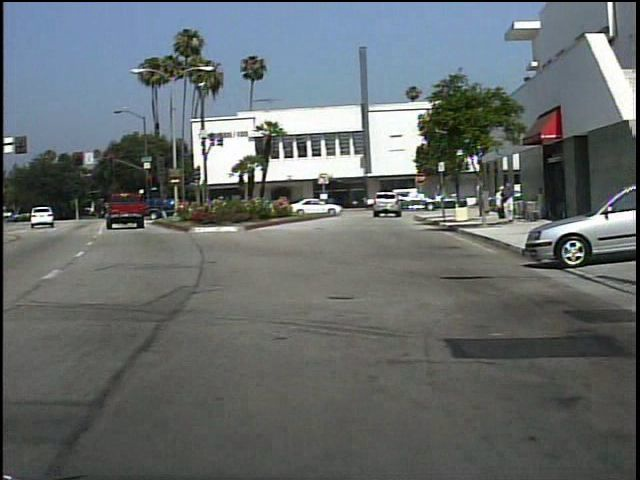person: (501, 182, 518, 224), (370, 190, 391, 219), (533, 184, 545, 222), (492, 184, 504, 219)
